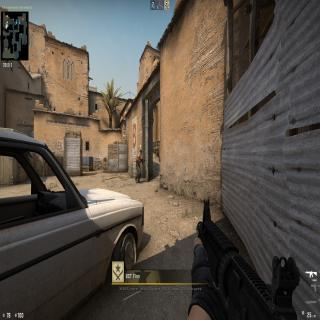T-Head: (140, 149, 142, 156)
